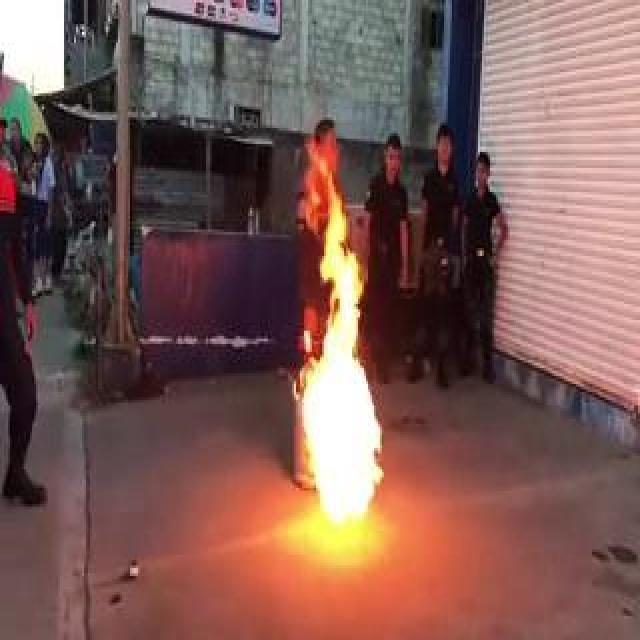Fire: (286, 251, 400, 525)
